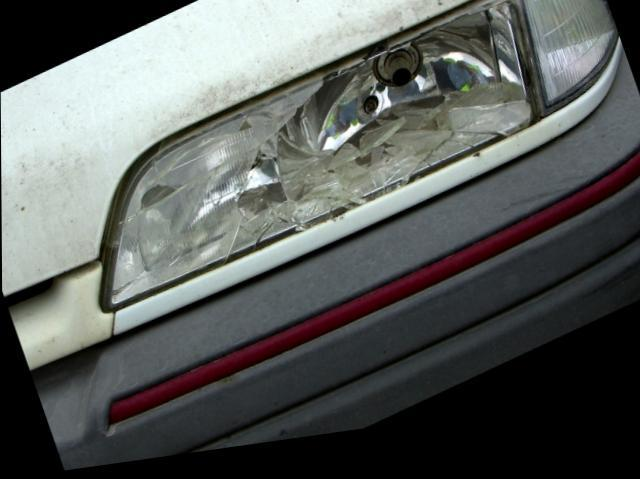lamp broken: (104, 4, 533, 315)
